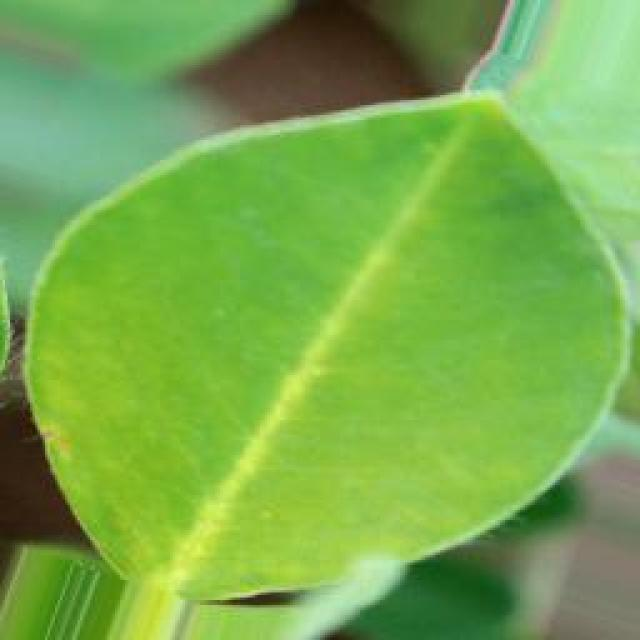Yellow_and_black_sigatoka: (21, 96, 628, 601)
